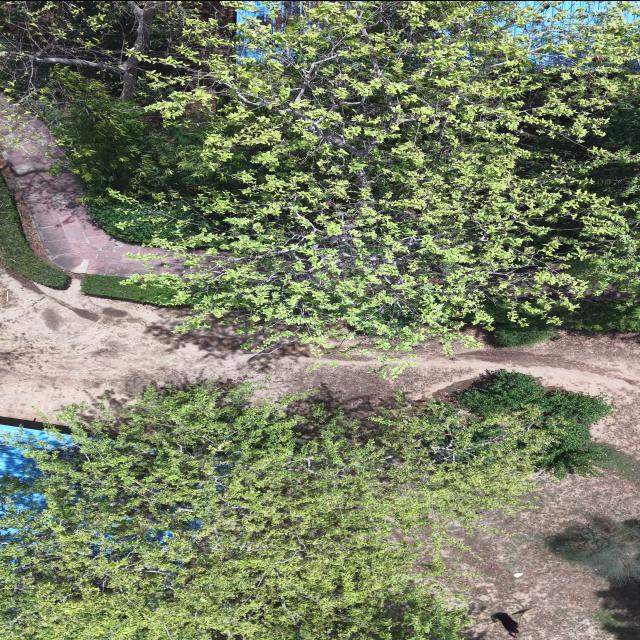DRY_AREA: (0, 267, 639, 456), (0, 267, 639, 455), (463, 472, 639, 639), (0, 101, 165, 276), (3, 148, 163, 276), (0, 158, 60, 268)
PATHWAYS: (0, 100, 165, 276)
VEGETATION_TREE: (0, 1, 639, 351), (0, 1, 638, 351), (151, 2, 637, 348), (0, 385, 560, 639), (2, 1, 231, 241), (51, 75, 209, 242), (0, 1, 161, 110), (452, 370, 610, 479), (544, 514, 639, 639), (453, 369, 610, 423), (0, 178, 70, 288), (487, 299, 639, 346), (84, 184, 197, 242), (545, 516, 639, 582), (552, 297, 639, 331), (81, 274, 174, 304), (593, 581, 639, 639), (492, 323, 557, 346), (599, 447, 639, 482), (595, 608, 639, 639)
